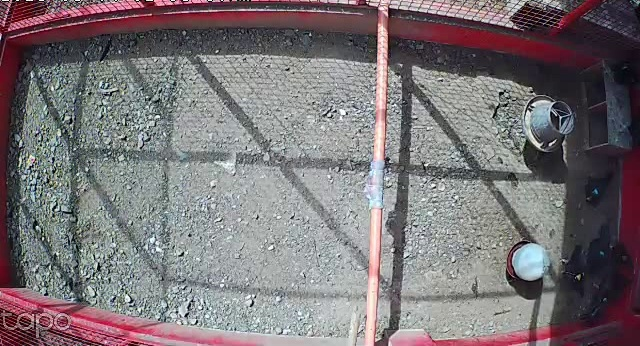Chicken: (556, 242, 592, 299), (581, 168, 614, 207)
Rooster: (577, 268, 636, 328)
Saddle_Color_Blue: (592, 188, 598, 195)
Saddle_Color_Yellow: (574, 271, 586, 282)
